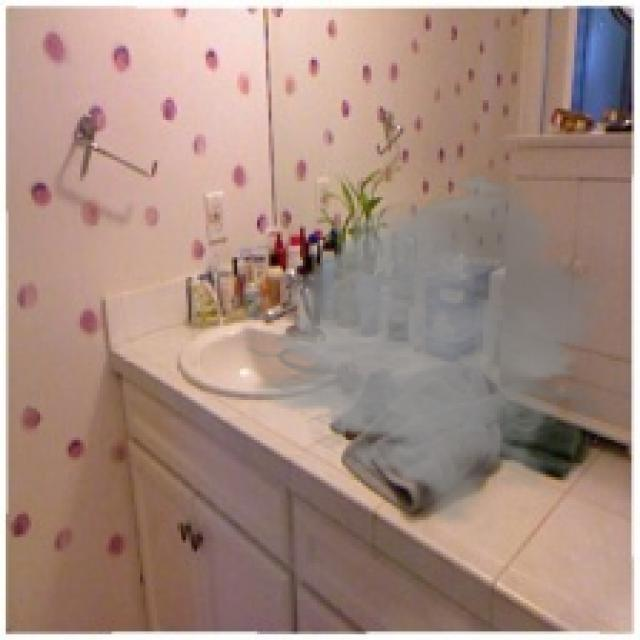Smoke: (240, 172, 637, 528)
